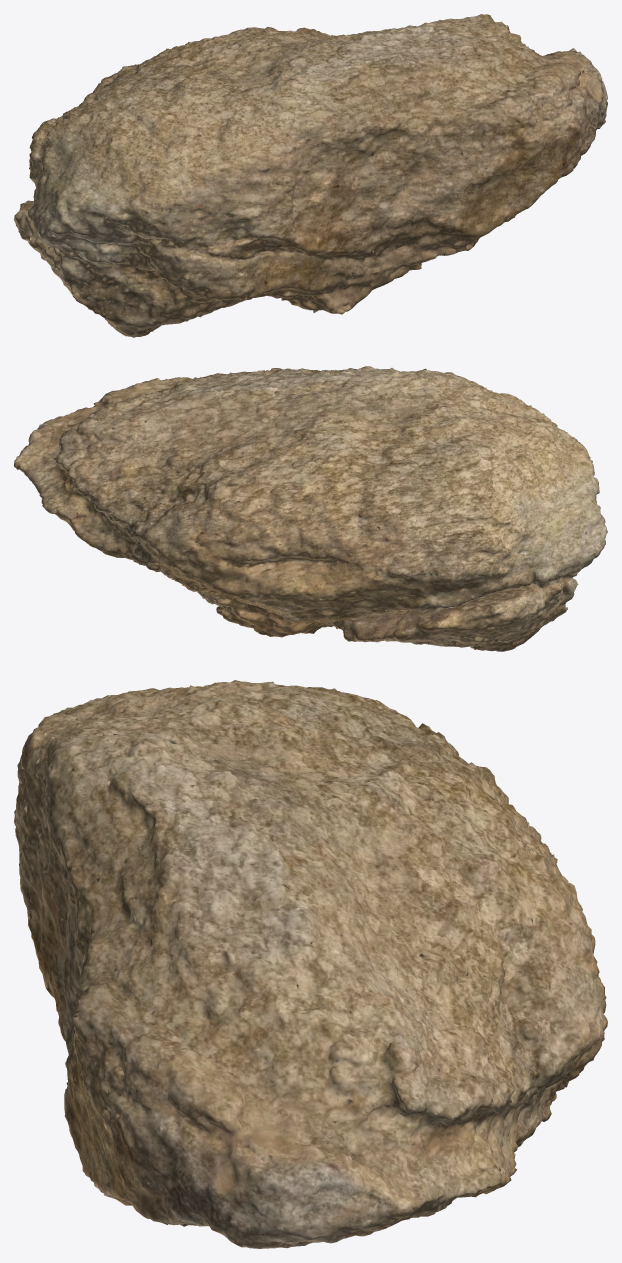
Rendered from namaqualand_boulder_05.glb.
3 views of the same model, one above another, from view 1: azimuth 30°, elevation 25°; view 2: azimuth 150°, elevation 25°; view 3: azimuth 270°, elevation 25° (orthographic). The views are drawn at different scales.
Visible parts, largest first — view 1: namaqualand_boulder_05; view 2: namaqualand_boulder_05; view 3: namaqualand_boulder_05.
Boxes of the visible parts, box(x1,y1,x2,y2) form: namaqualand_boulder_05: box(14, 14, 607, 337); namaqualand_boulder_05: box(14, 366, 607, 651); namaqualand_boulder_05: box(14, 680, 607, 1248).
Size of the model in its own units: 1.36 by 0.5384 by 0.748.
Materials: 1 (1 with a texture image).
